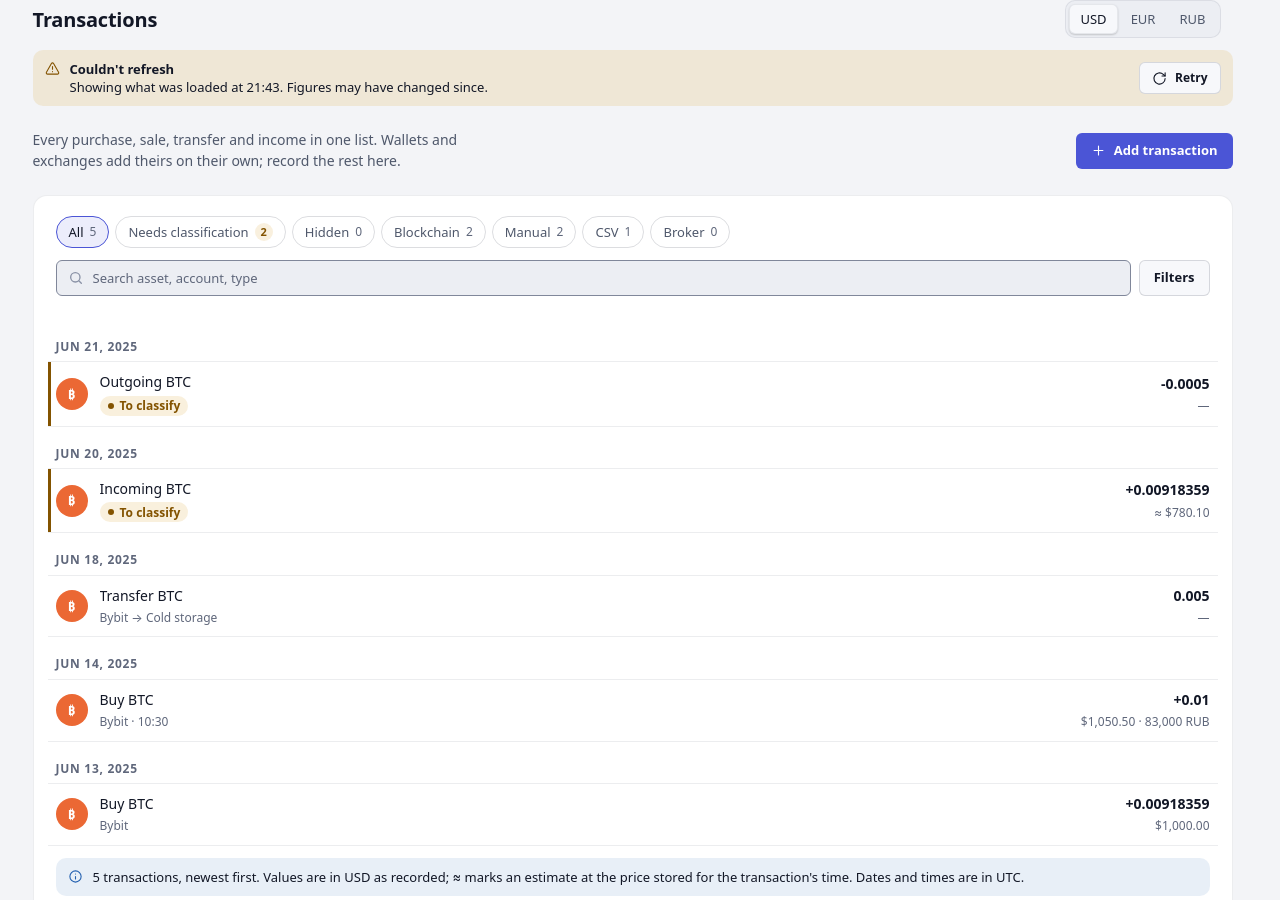
Test case: TransactionsPage (list-all-operations) › OPS-PHONE: below 640 px shows two-line rows under day headings instead of the table
The width and height of the screenshot is (1280, 900).
Expected: the headings read "Jun 21, 2025", "Jun 20, 2025", "Jun 18, 2025", "Jun 14, 2025", "Jun 13, 2025", in this order, [48,320,1218,362]; [48,427,1218,469]; [48,533,1218,576]; [48,637,1218,680]; [48,742,1218,784]
The whole row opens the same drawer as on a wide screen.
Click the button "Incoming BTC To classify +0.00918359 ≈ $780.10" at (72, 501), box [48,469,1218,533]
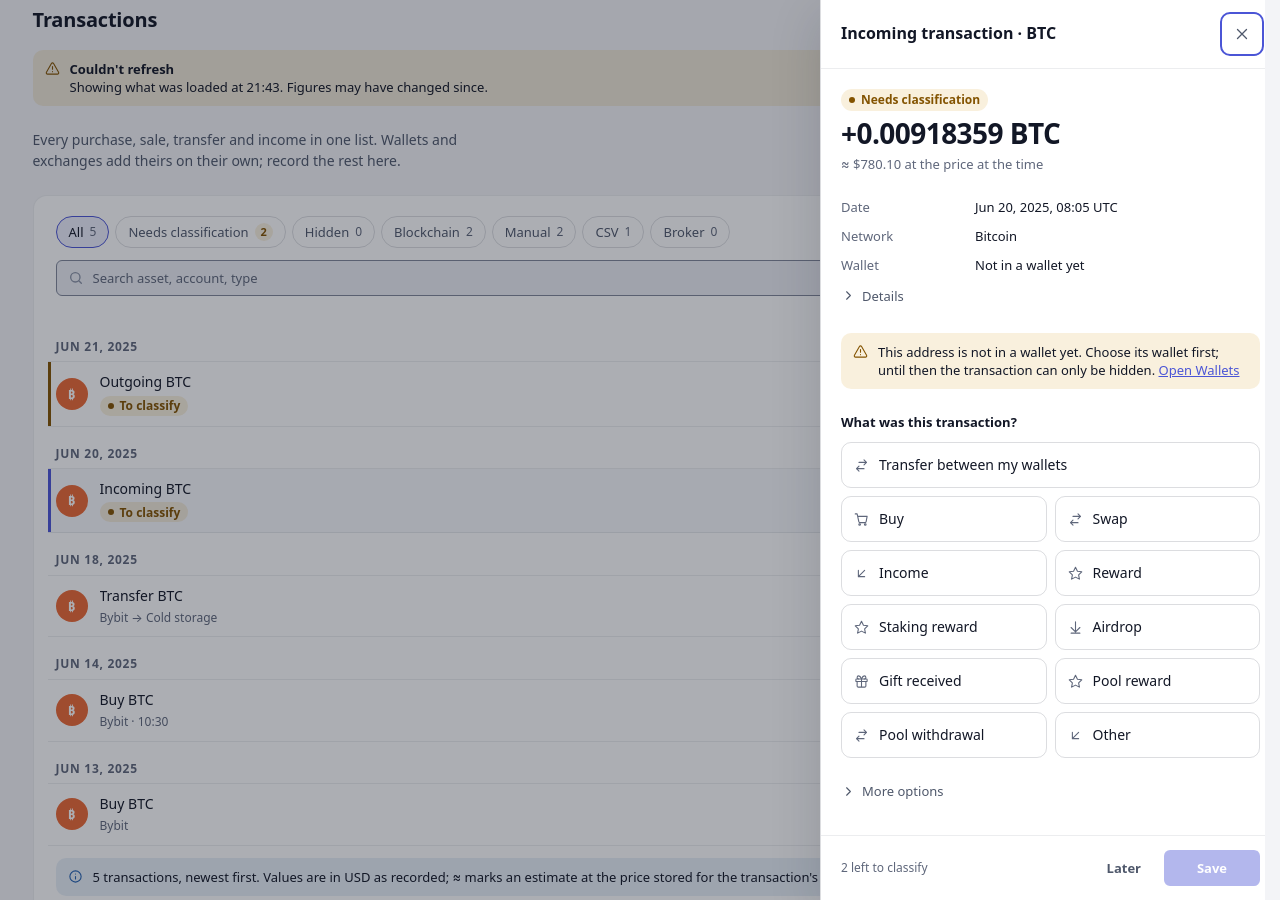
Expected: the dialog "Incoming transaction · BTC" is shown, [820,0,1279,899]
Press Escape
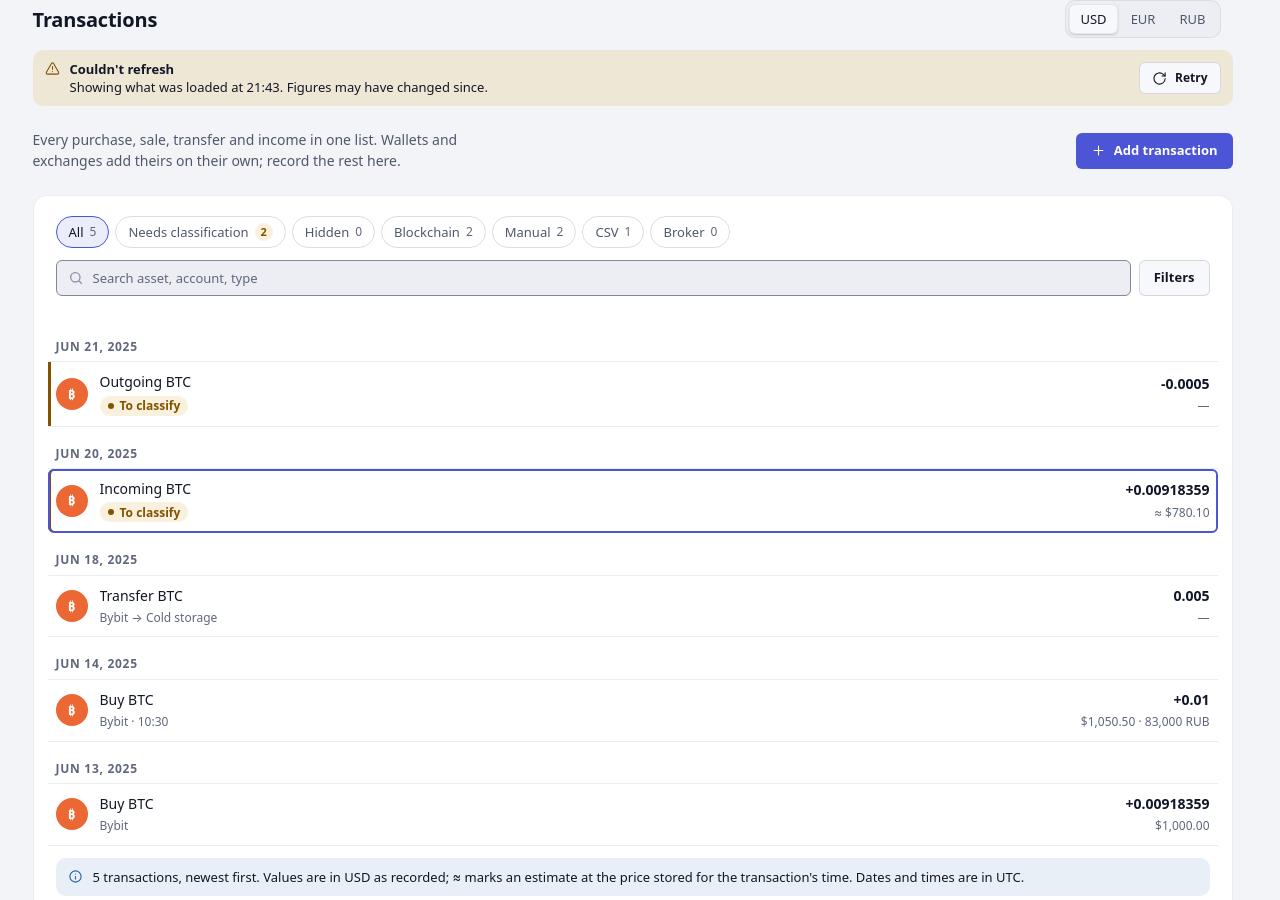
Expected: the dialog is gone
